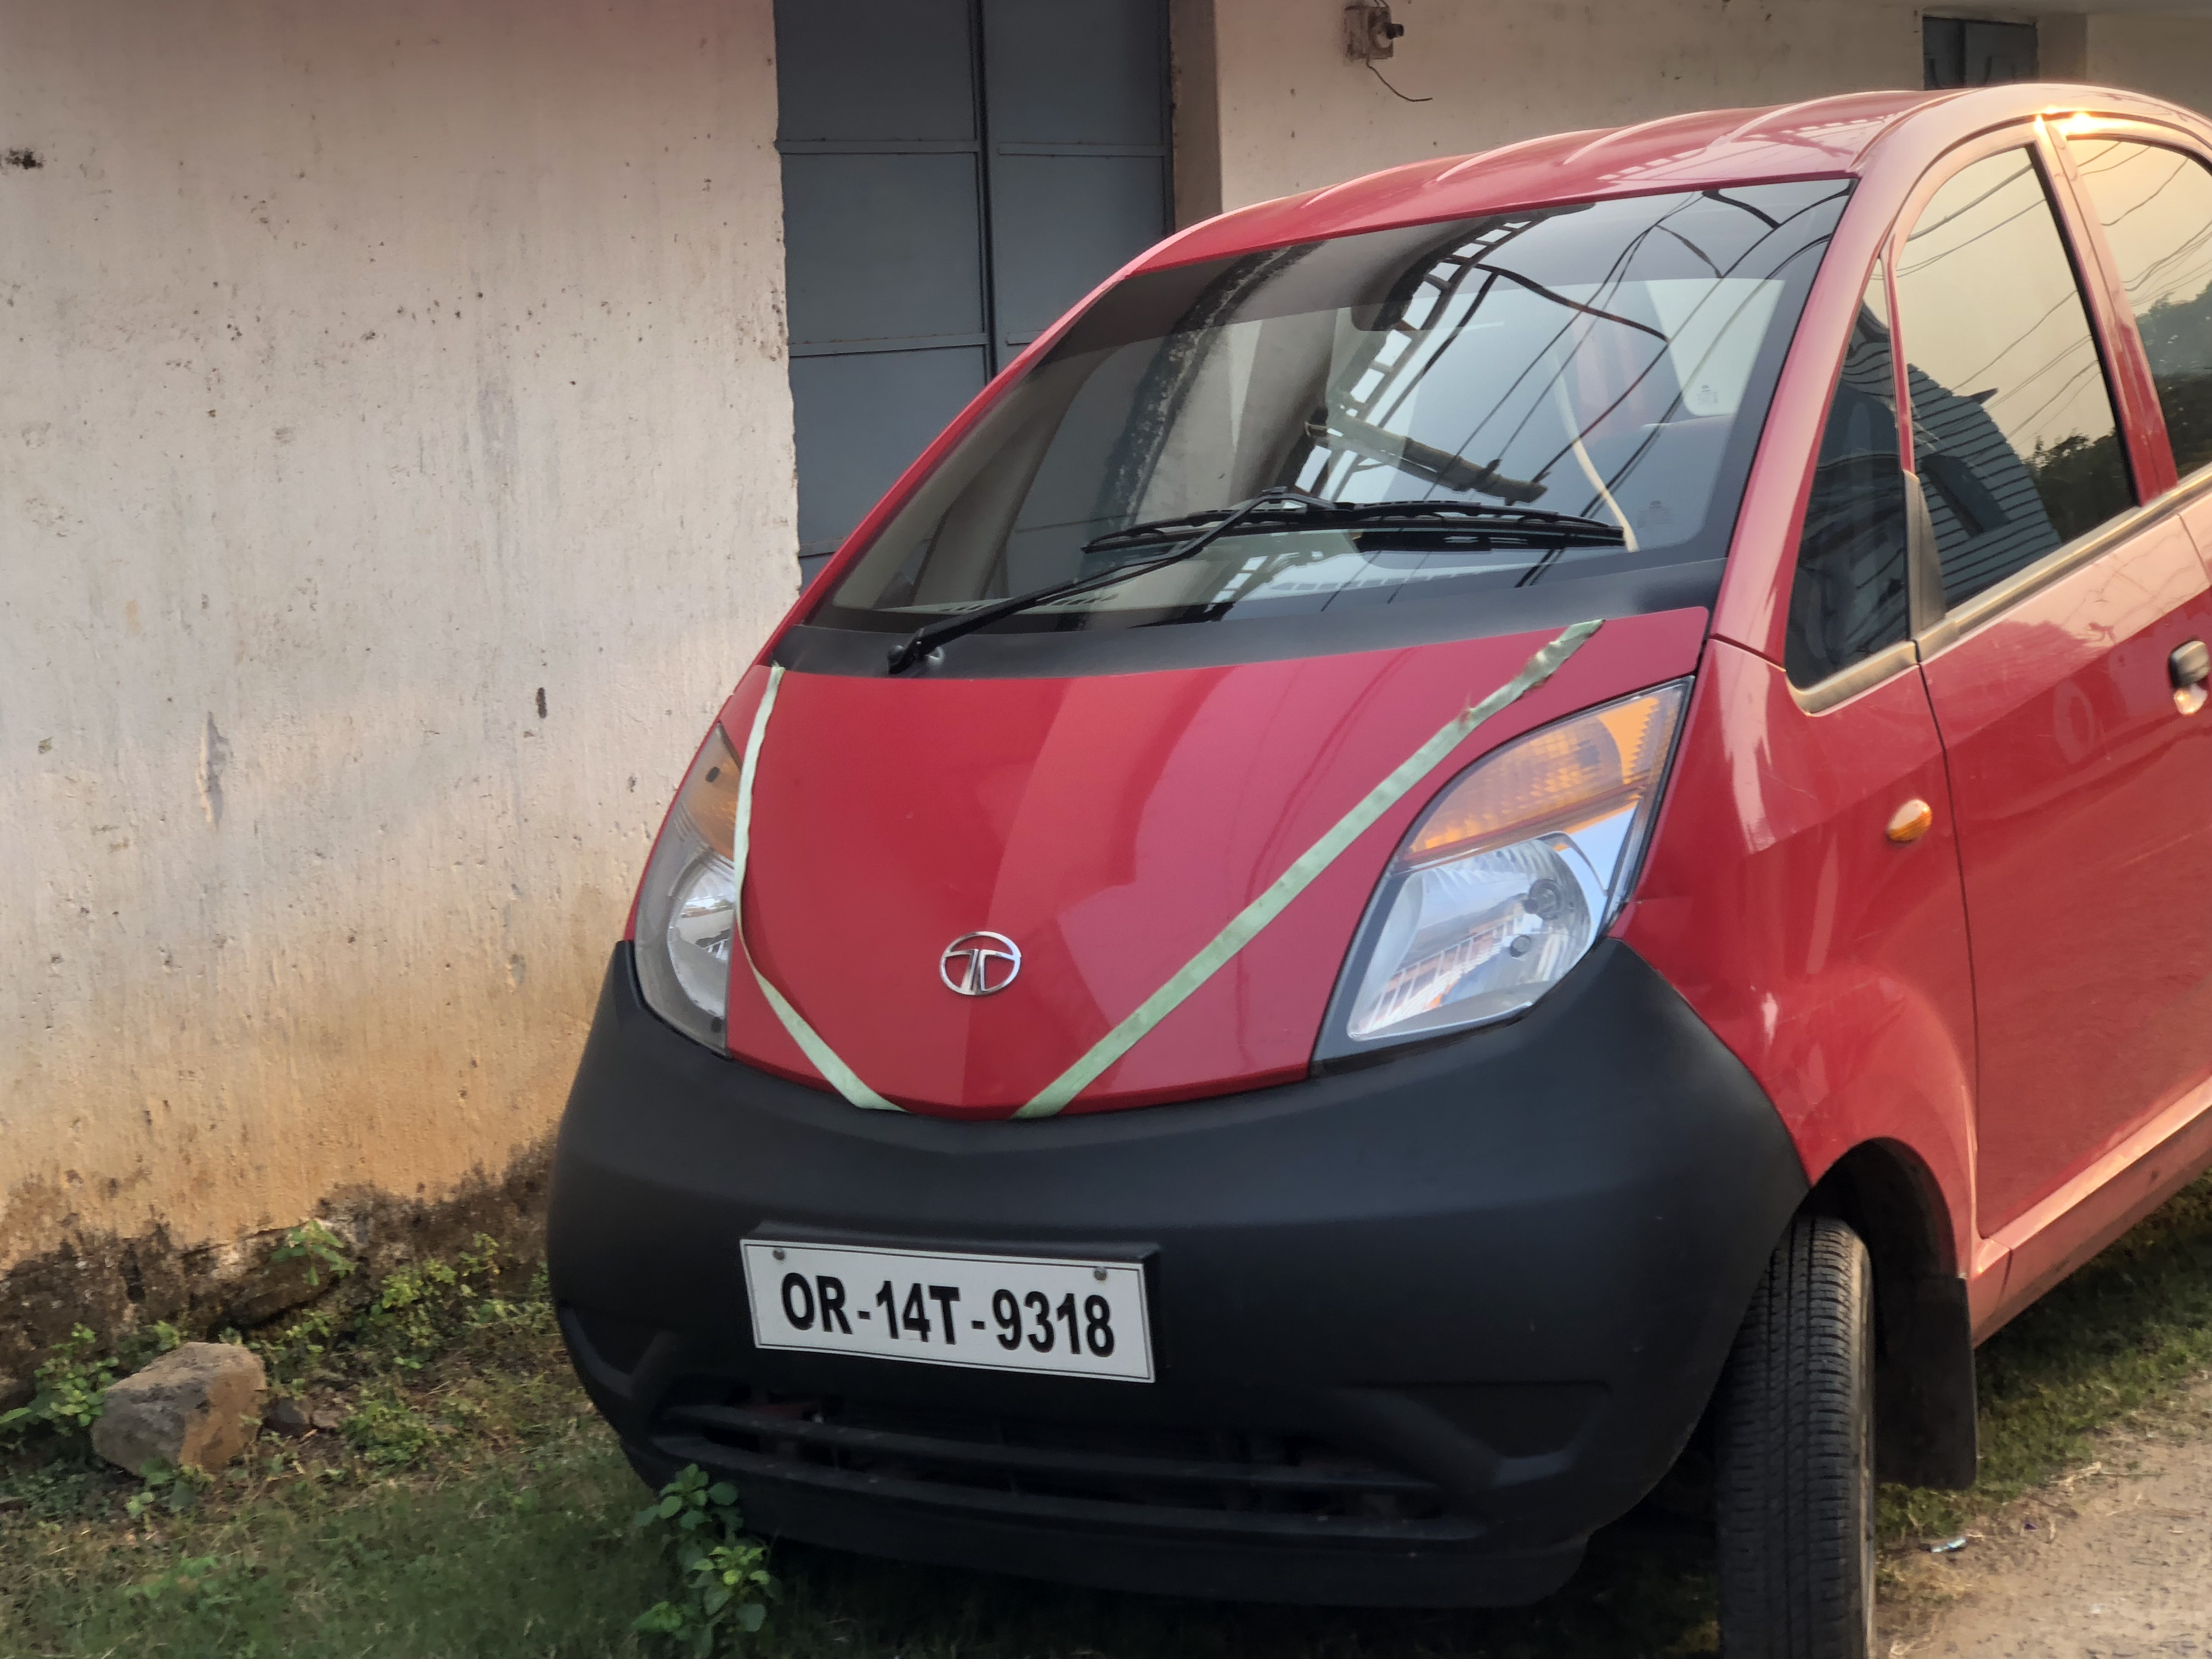licenseplate: (710, 1211, 1166, 1397)
